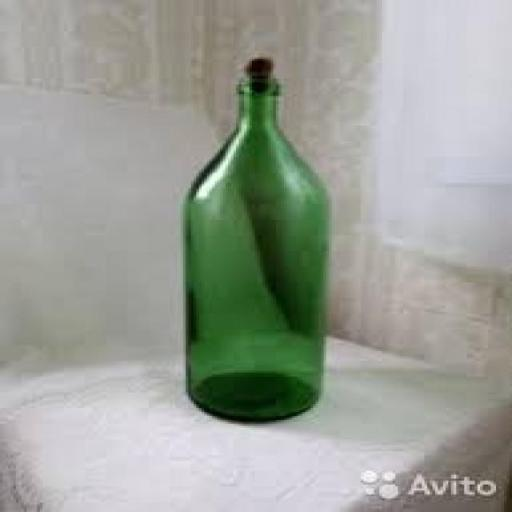glass: (167, 49, 366, 430)
